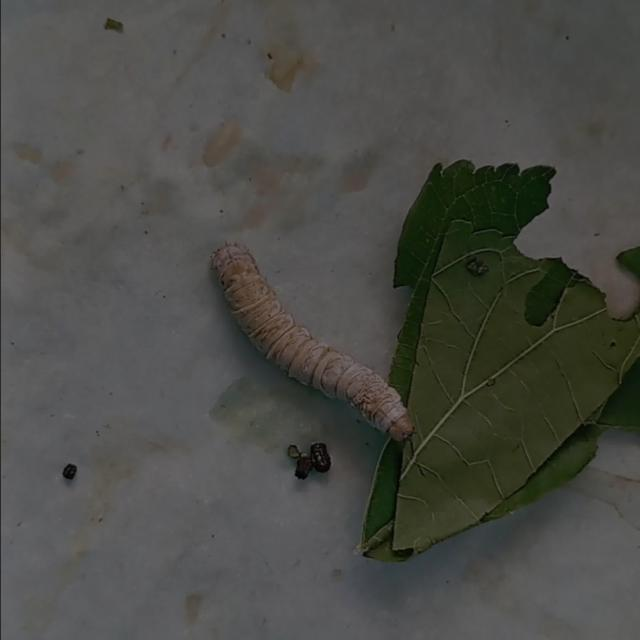Grasserie: (193, 208, 451, 460)
